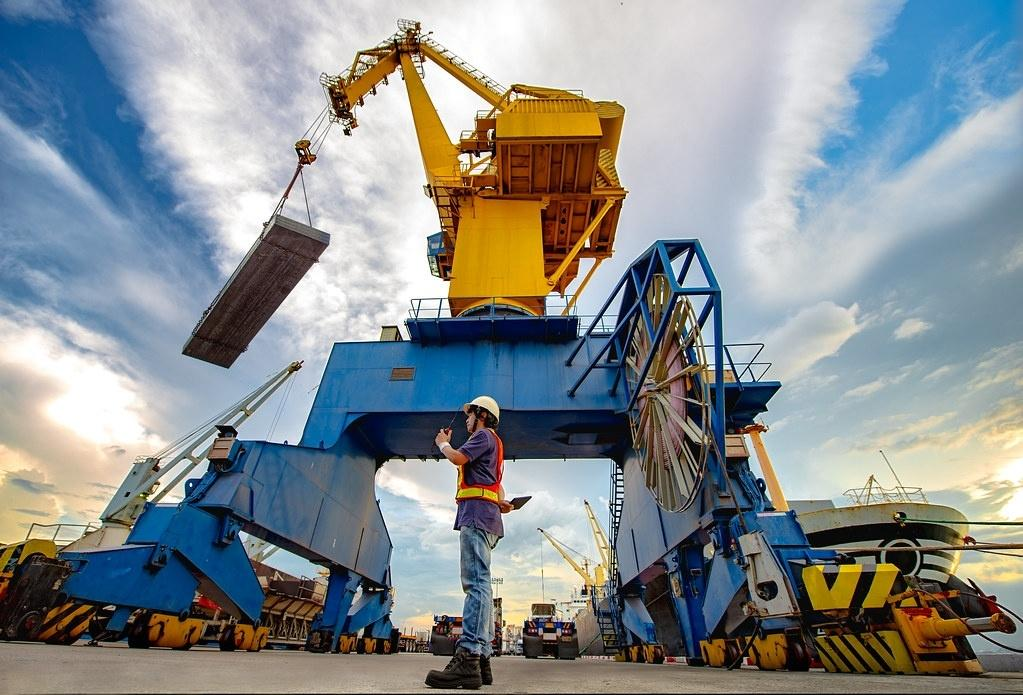bota: (428, 634, 492, 686)
capacete: (461, 393, 505, 427)
pessoa: (434, 387, 517, 695)
uniforme seguranca: (445, 429, 511, 515)
